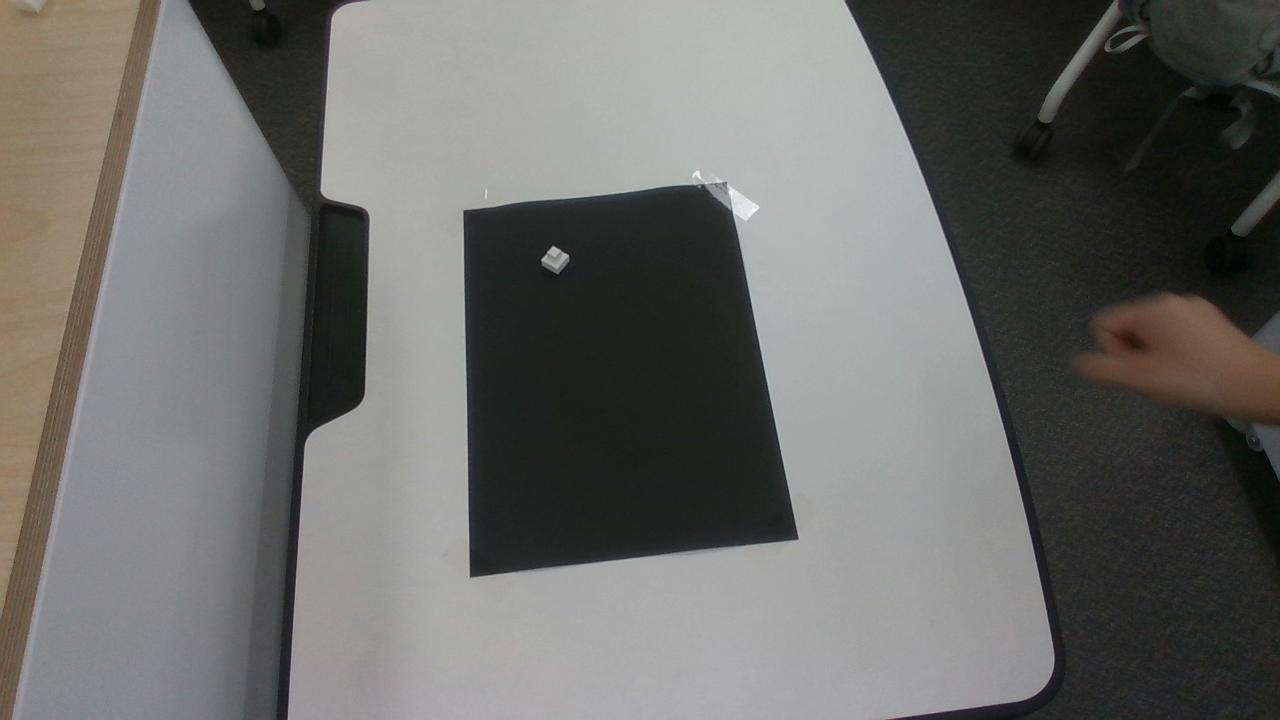cube: (541, 246, 569, 274)
